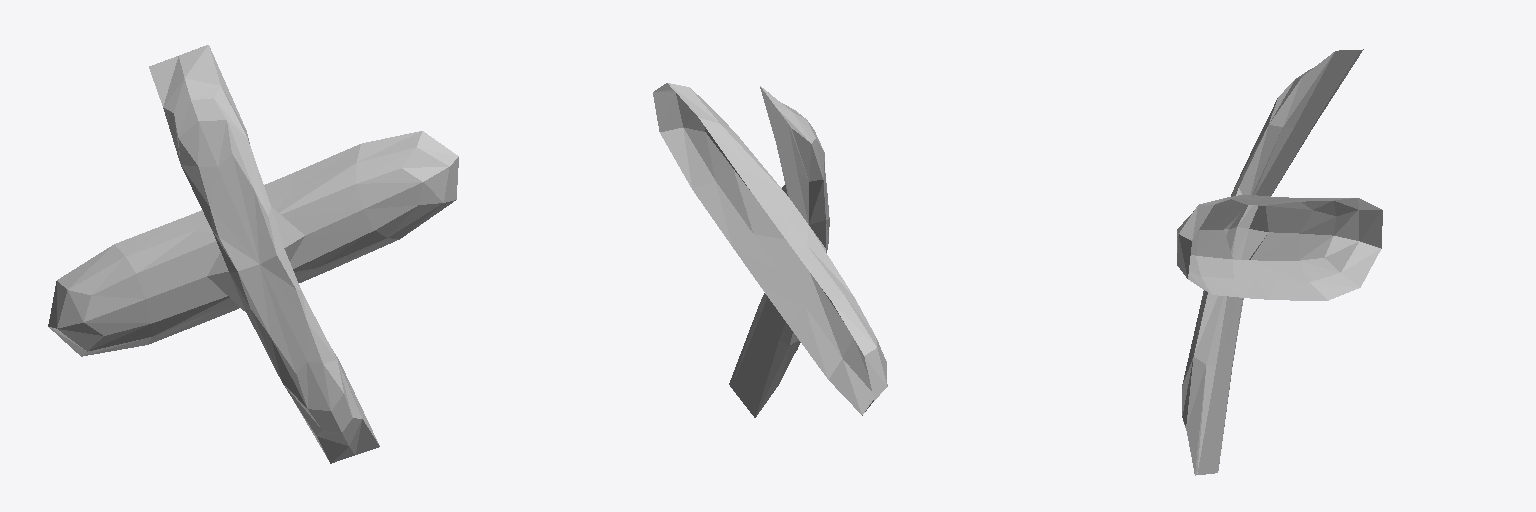
File: SubTool-8-1615254.OBJ
The picture shows the model from 3 angles: view 1: azimuth 30°, elevation 25°; view 2: azimuth 150°, elevation 25°; view 3: azimuth 270°, elevation 25°; orthographic projection.
Visible parts, largest first — view 1: Group25; view 2: Group25; view 3: Group25.
Boxes of the visible parts, x1=… form: Group25: x1=48, y1=45, x2=458, y2=463; Group25: x1=653, y1=83, x2=887, y2=417; Group25: x1=1177, y1=49, x2=1382, y2=475.
Bounding box in the file's own units: 0.8887 × 1.04 × 0.4985.